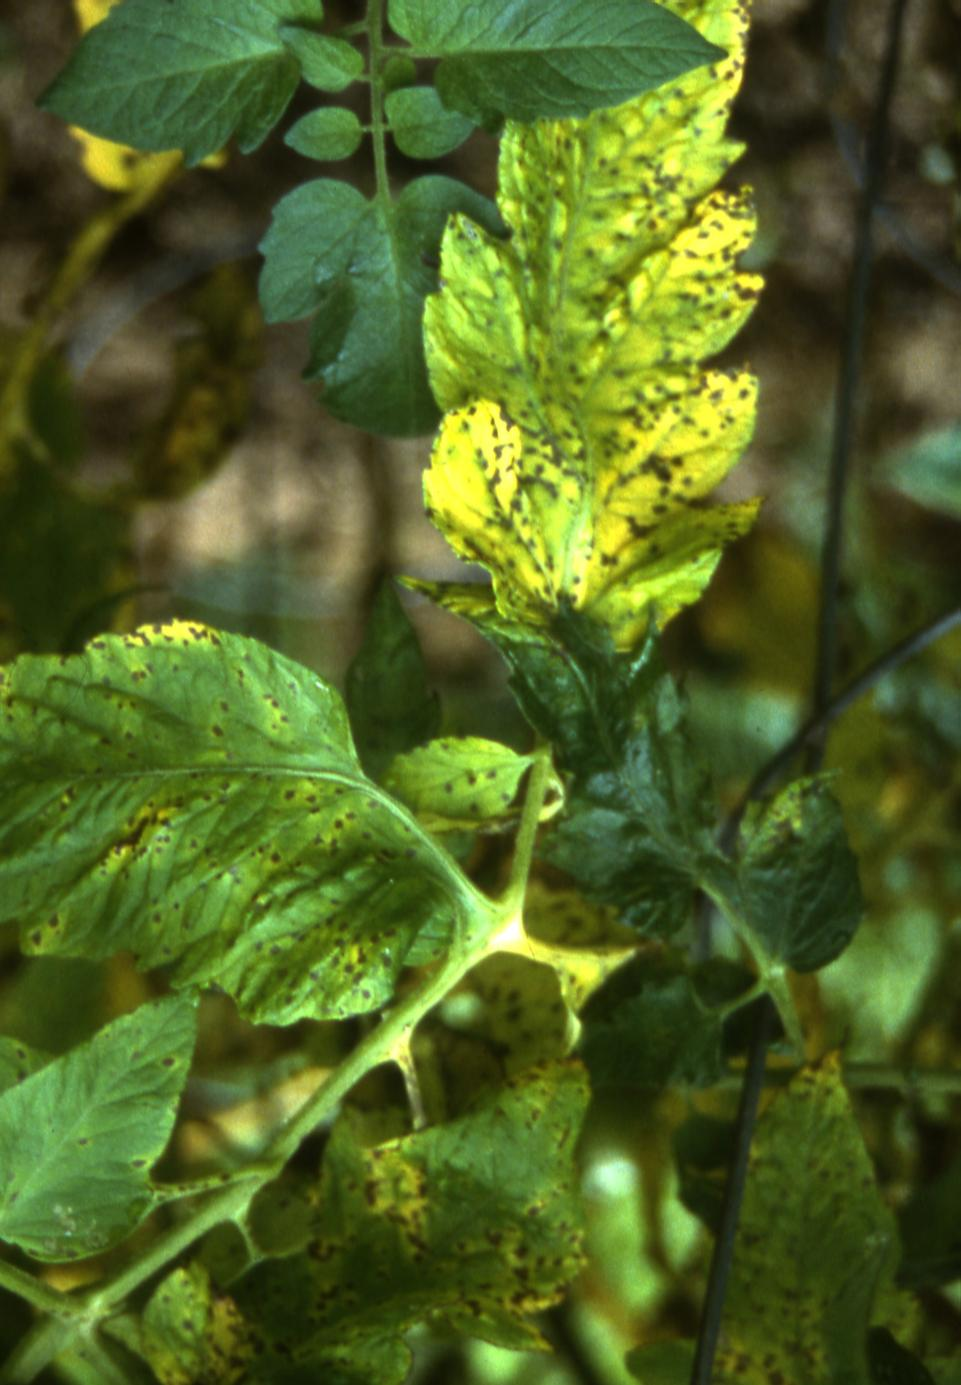Tomato Septoria leaf spot: (407, 0, 772, 752), (0, 585, 540, 1067), (0, 968, 244, 1319)
